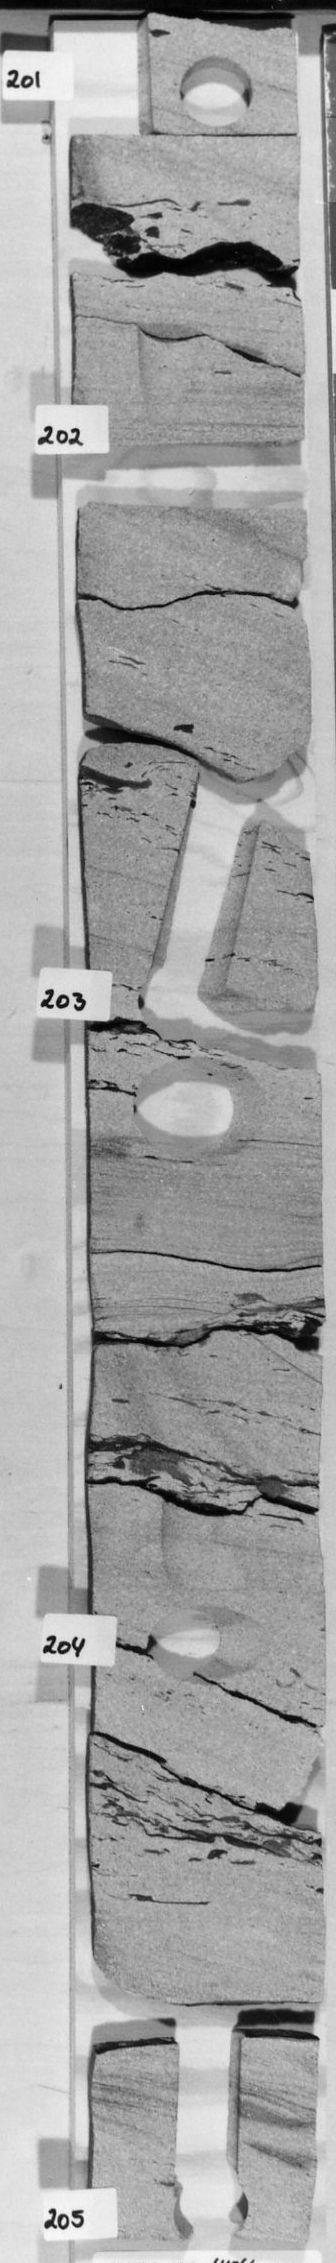hplug: (78, 439, 307, 520), (128, 1593, 274, 1684), (167, 51, 260, 128), (166, 2175, 254, 2236)
scal: (124, 1056, 271, 1165)
vplug: (151, 759, 261, 989), (162, 2042, 252, 2175), (79, 14, 162, 144), (121, 310, 203, 433)
